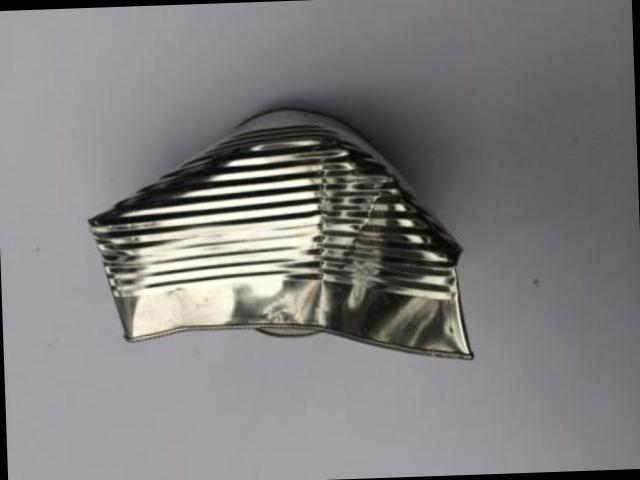metal: (88, 107, 470, 356)
